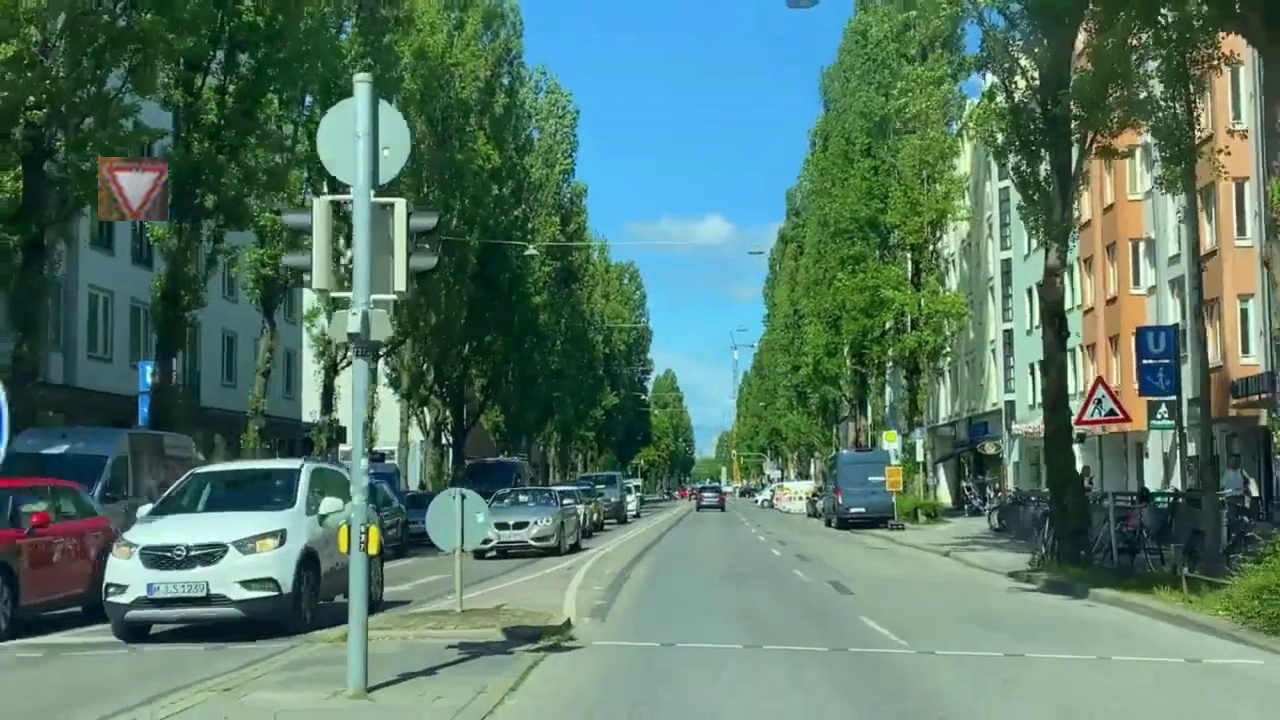Yield: (98, 157, 168, 221)
